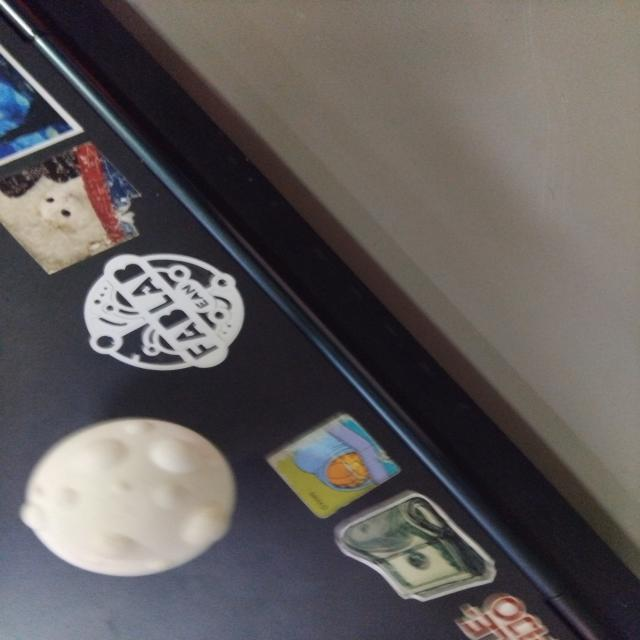Hongo: (14, 410, 246, 582)
